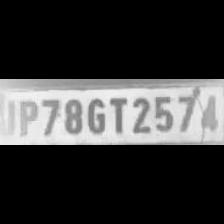2: (127, 93, 151, 134)
4: (196, 92, 220, 132)
5: (152, 92, 174, 132)
7: (36, 96, 60, 138), (174, 92, 196, 132)
8: (60, 96, 84, 136)
G: (84, 95, 107, 135)
P: (14, 96, 38, 138)
T: (106, 93, 128, 134)
